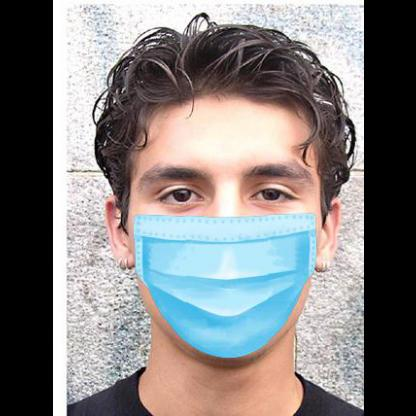Surgical Mask: (102, 98, 318, 356)
